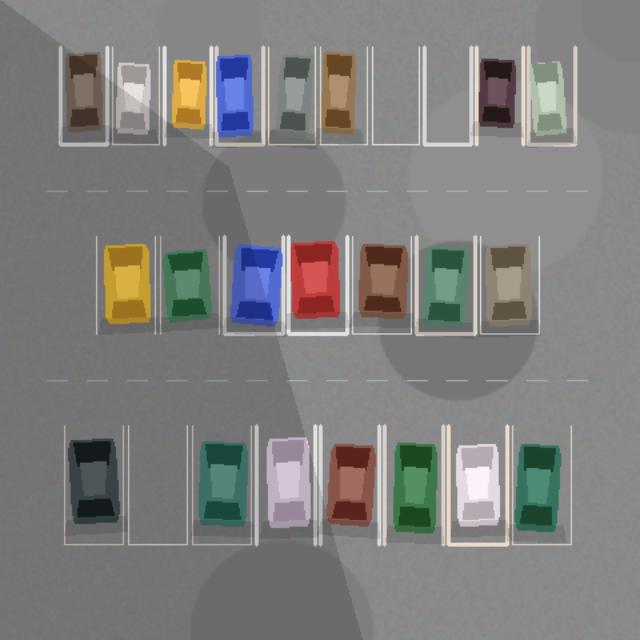space-empty: (128, 425, 187, 544), (372, 47, 419, 144), (424, 47, 471, 144)
space-occupied: (64, 425, 123, 544), (192, 425, 251, 544), (256, 425, 315, 544), (320, 425, 379, 544), (384, 425, 443, 544), (448, 425, 507, 544), (512, 425, 571, 544), (96, 236, 155, 333), (160, 236, 219, 333), (224, 236, 283, 333), (288, 236, 347, 333), (352, 236, 411, 333), (416, 236, 475, 333), (480, 236, 539, 333), (60, 47, 107, 144), (112, 47, 159, 144), (164, 47, 211, 144), (216, 47, 263, 144), (268, 47, 315, 144), (320, 47, 367, 144), (476, 47, 523, 144), (528, 47, 575, 144)
